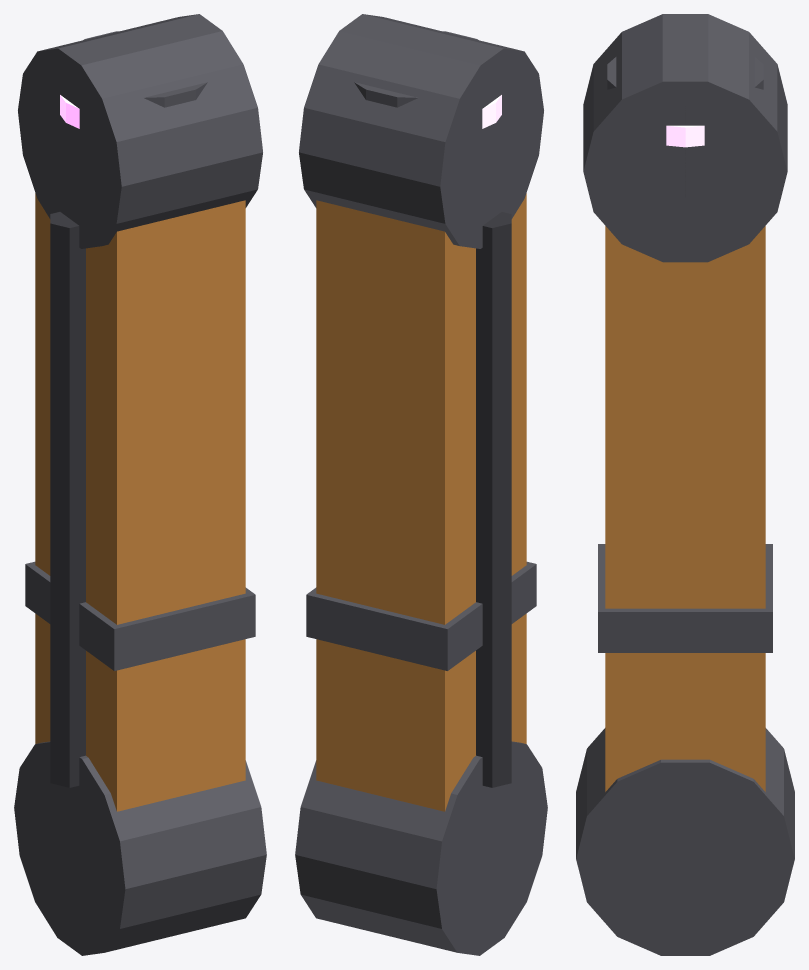
The model's file is robot-fore.glb.
3 views of the same model, side by side, from view 1: azimuth 30°, elevation 25°; view 2: azimuth 150°, elevation 25°; view 3: azimuth 270°, elevation 25° (orthographic).
Visible parts, largest first — view 1: vantor_s0, vantor_s-1; view 2: vantor_s-1, vantor_s0; view 3: vantor_s0, vantor_s-1.
Part boxes in pixels (<box>): vantor_s0: <box>25,31,266,952</box>; vantor_s-1: <box>14,14,222,955</box>; vantor_s-1: <box>295,14,547,955</box>; vantor_s0: <box>306,14,536,810</box>; vantor_s0: <box>576,14,772,858</box>; vantor_s-1: <box>576,14,794,955</box>.
Size of the model in its own units: 0.128 by 0.6614 by 0.15.
